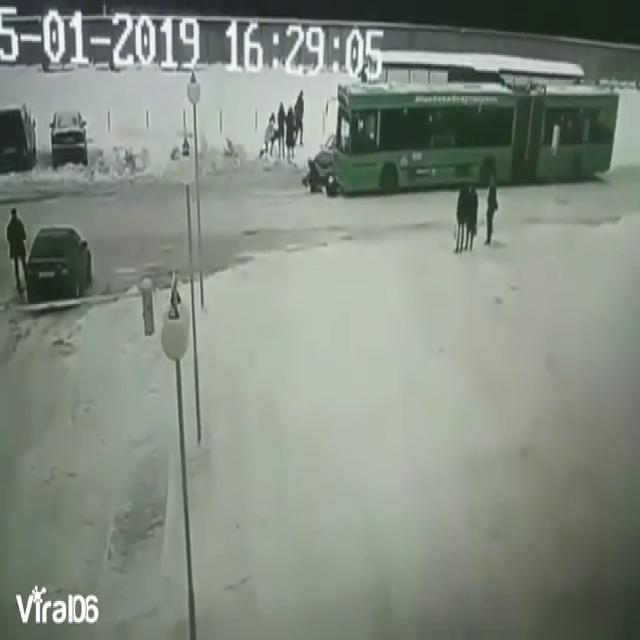severe: (300, 59, 626, 203)
